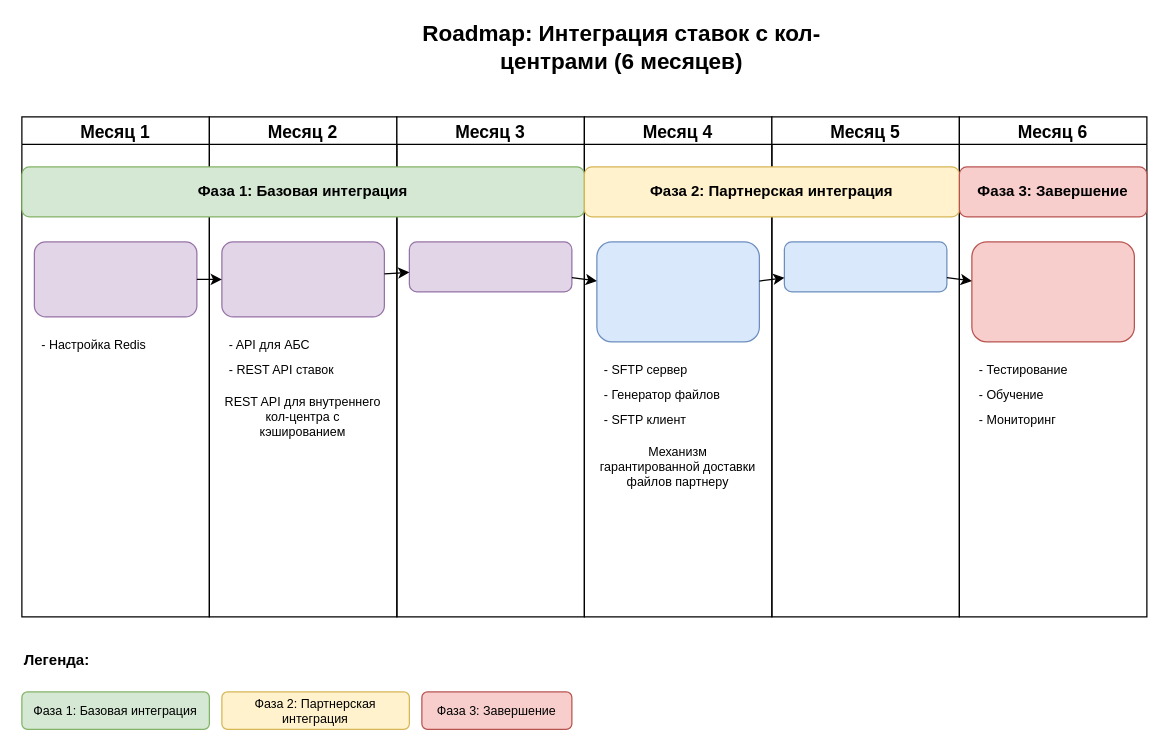
Image size: 1169x751. Some labels were removed from this diagram. The centre of each missing label's shape, as x and y in pixels:
SFTP-модуль: (x=677, y=291)
Интеграция с внутренним КЦ: (x=490, y=266)
Интеграция с партнерским КЦ: (x=865, y=266)
Подготовка инфраструктуры: (x=115, y=279)
Разработка API ставок: (x=302, y=279)
Тестирование и ввод в эксплуатацию: (x=1052, y=291)
